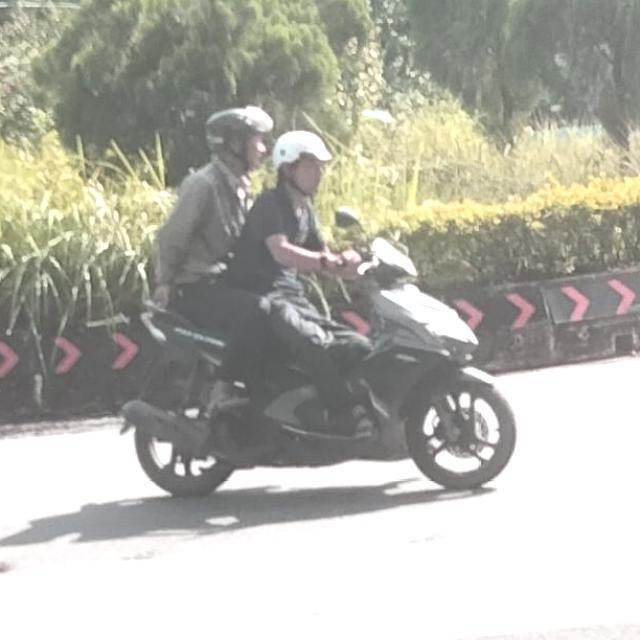Helmet: (272, 127, 332, 195), (203, 105, 263, 169)
